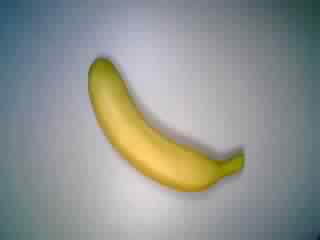banana: (83, 55, 250, 198)
